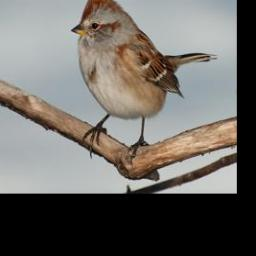Sparrow: (69, 0, 219, 167)
